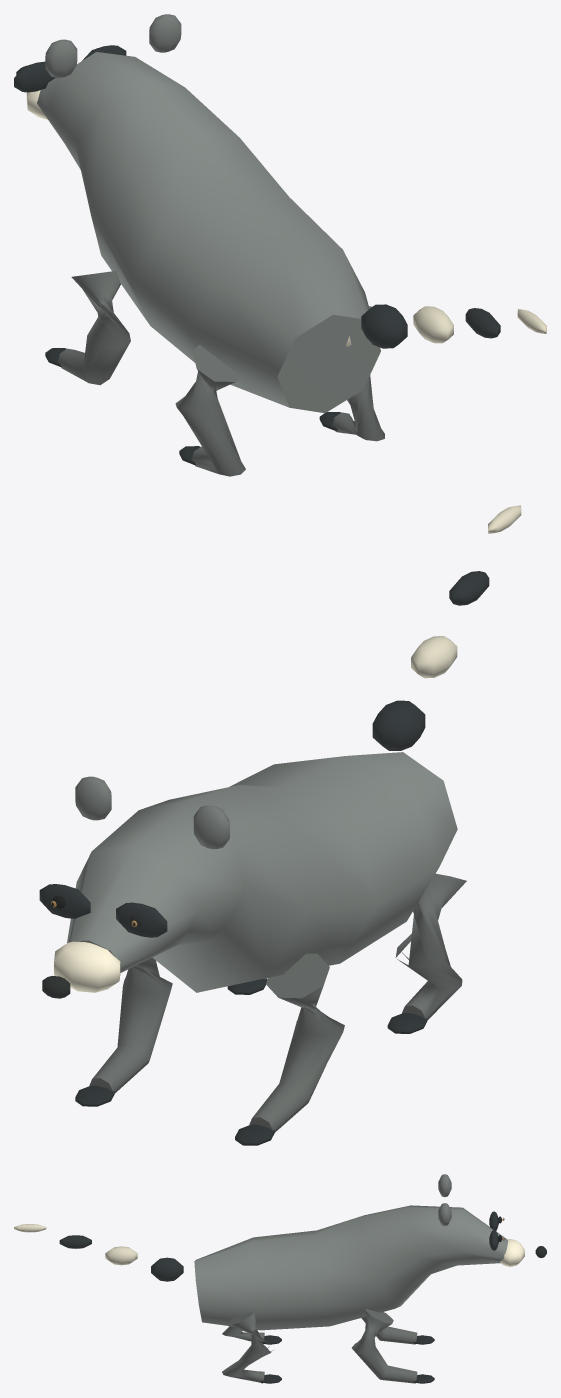
The model's file is raccoon_mobile.glb.
The picture shows the model from 3 angles, top to bottom: view 1: azimuth 30°, elevation 25°; view 2: azimuth 150°, elevation 25°; view 3: azimuth 270°, elevation 25°; orthographic projection. The views are drawn at different scales.
Visible parts, largest first — view 1: RaccoonOrganicBody, Leg_LH, Leg_LF, Leg_RH, TailRingDetail_01, TailRingDetail_02, RoundEar, RoundEar2, FaceMaskDetail_L, TailRingDetail_03; view 2: RaccoonOrganicBody, Leg_LF, Leg_RF, Leg_LH, Muzzle, TailRingDetail_01, TailRingDetail_02, RoundEar2, RoundEar, FaceMaskDetail_L, FaceMaskDetail_R, TailRingDetail_03; view 3: RaccoonOrganicBody, Leg_RF, Leg_RH, TailRingDetail_01, Leg_LF, TailRingDetail_02, Muzzle, TailRingDetail_03, Leg_LH.
Part boxes in pixels (x1,y1,x2,y2): RaccoonOrganicBody: (37,52,380,413); Leg_LH: (175,344,245,476); Leg_LF: (58,271,130,385); Leg_RH: (332,306,384,441); TailRingDetail_01: (361,304,407,348); TailRingDetail_02: (413,306,453,343); RoundEar: (45,39,77,77); RoundEar2: (149,14,181,52); FaceMaskDetail_L: (14,61,55,92); TailRingDetail_03: (465,308,500,338); RaccoonOrganicBody: (67,752,457,992); Leg_LF: (249,953,344,1132); Leg_RF: (89,957,172,1093); Leg_LH: (395,873,466,1020); Muzzle: (54,941,120,992); TailRingDetail_01: (372,700,425,750); TailRingDetail_02: (411,636,457,678); RoundEar2: (75,776,111,820); RoundEar: (193,805,229,849); FaceMaskDetail_L: (116,902,167,937); FaceMaskDetail_R: (39,884,90,918); TailRingDetail_03: (449,571,489,605); RaccoonOrganicBody: (194,1205,507,1330); Leg_RF: (352,1309,417,1383); Leg_RH: (222,1311,274,1383); TailRingDetail_01: (151,1257,183,1281); Leg_LF: (361,1316,417,1344); TailRingDetail_02: (105,1246,137,1265); Muzzle: (500,1239,524,1266); TailRingDetail_03: (59,1235,91,1248); Leg_LH: (222,1326,264,1341).
Size of the model in its own units: 1.11 by 1.69 by 4.67.
